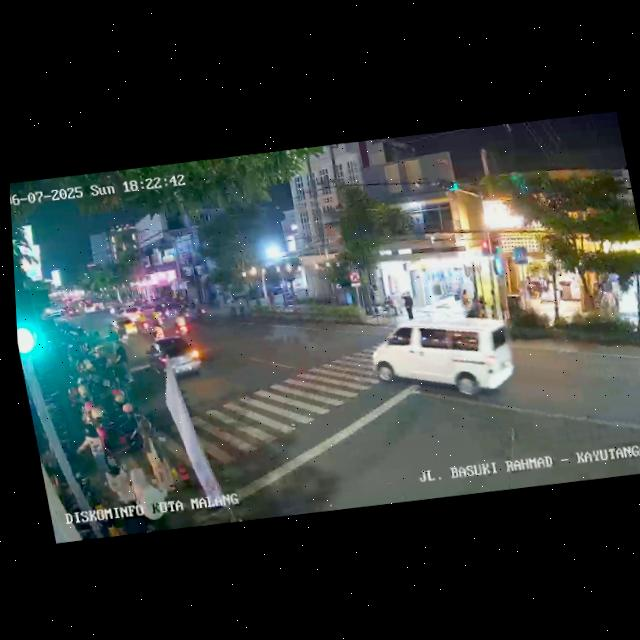car: (365, 310, 521, 417), (143, 333, 205, 387), (109, 316, 139, 340), (115, 305, 147, 325), (82, 301, 98, 316), (66, 304, 82, 318)
motorcycle: (172, 312, 191, 338), (189, 298, 208, 320), (134, 313, 150, 336), (115, 322, 130, 346), (177, 303, 193, 325), (149, 323, 166, 343), (151, 308, 165, 326), (162, 302, 171, 319)
person: (110, 339, 136, 387), (606, 285, 626, 317), (400, 290, 418, 320), (387, 294, 405, 318), (598, 291, 613, 319), (458, 289, 473, 314), (382, 296, 392, 317)
